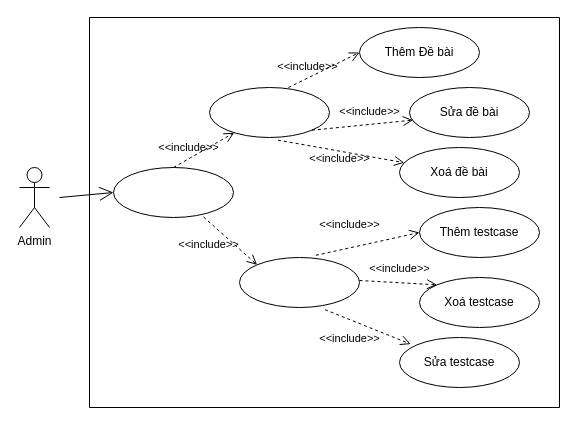
The diagram is 577 pixels wide and 425 high, and some of its shapes have lost their labels. The centre of each missing label's shape, as x and y in pixels:
"Quản lý bài tập" goes at point (173, 192).
"Quản lý testcase của đề bài" goes at point (299, 282).
"Quản lý đề bài" goes at point (269, 112).
